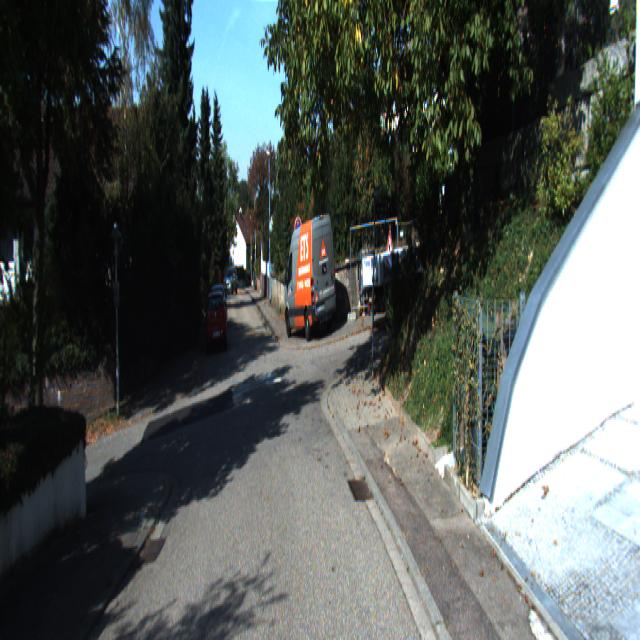Car: (203, 290, 230, 359)
DontCare: (224, 256, 240, 297)
Truck: (361, 175, 475, 347)
Van: (284, 212, 338, 343)
